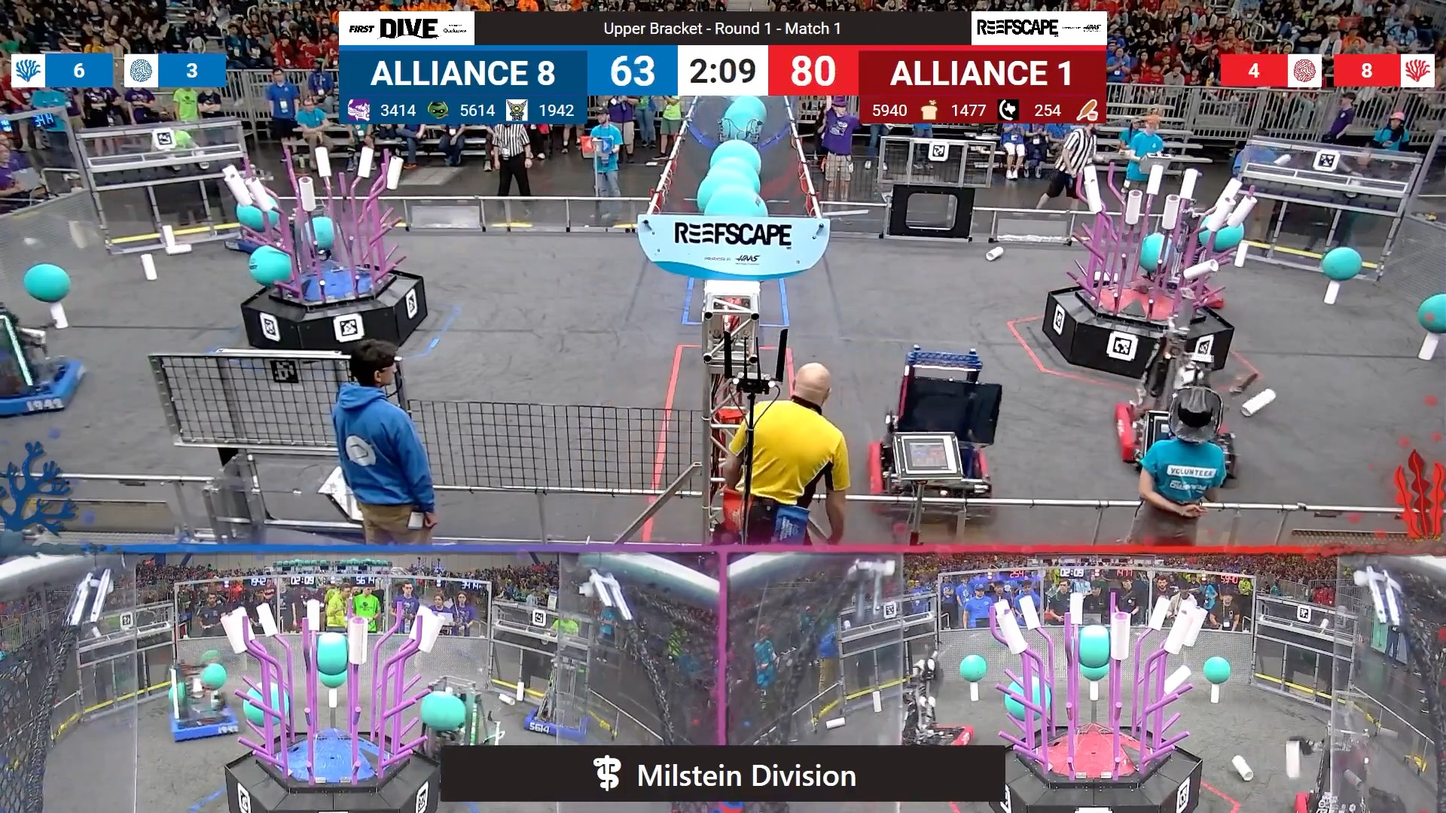bumpers: (858, 433, 1000, 523), (1111, 401, 1243, 479), (0, 359, 95, 419), (163, 703, 252, 741), (886, 715, 982, 750), (521, 697, 595, 742), (221, 229, 294, 257)
